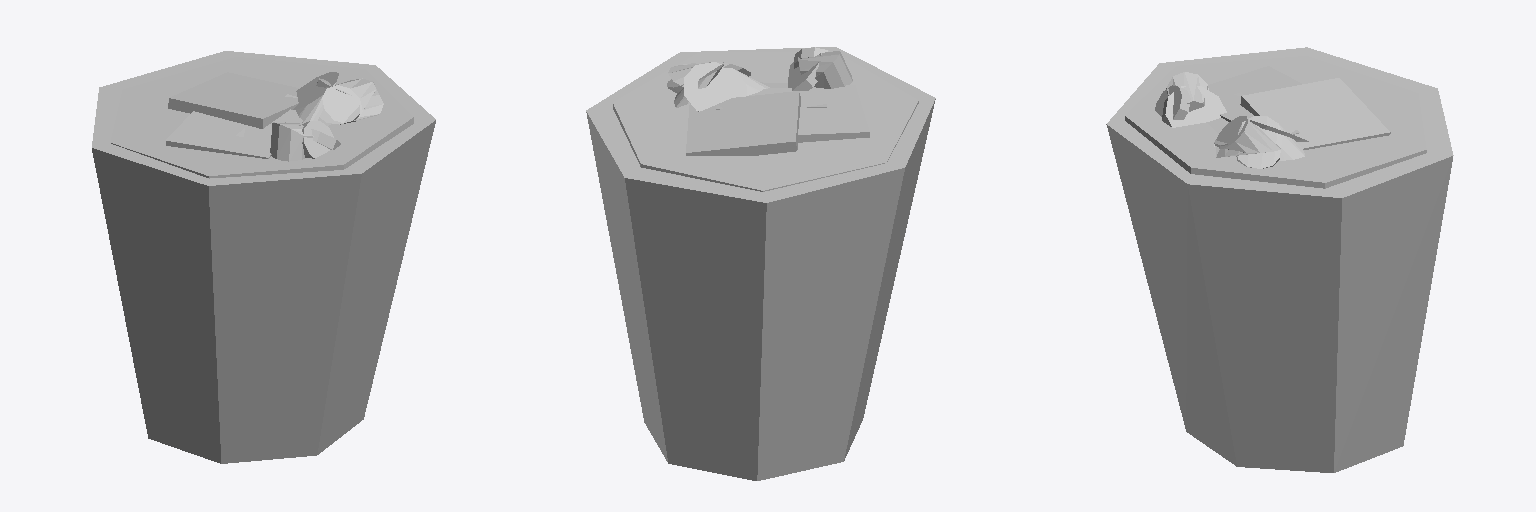
The model's file is Bin.obj.
3 renders of one model, left to right at view 1: azimuth 30°, elevation 25°; view 2: azimuth 150°, elevation 25°; view 3: azimuth 270°, elevation 25°, orthographic.
Parts seen in each view (by area): view 1: group[number redacted]; view 2: group[number redacted]; view 3: group[number redacted].
Boxes of the visible parts, x1=… form: group[number redacted]: x1=92, y1=51, x2=435, y2=463; group[number redacted]: x1=586, y1=47, x2=935, y2=480; group[number redacted]: x1=1106, y1=47, x2=1453, y2=472.
Size of the model in its own units: 0.1552 by 0.1697 by 0.1547.